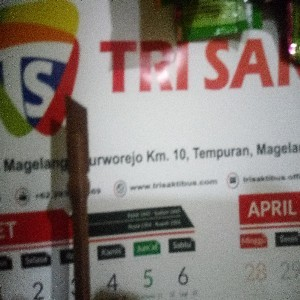cutter: (62, 94, 91, 300)
